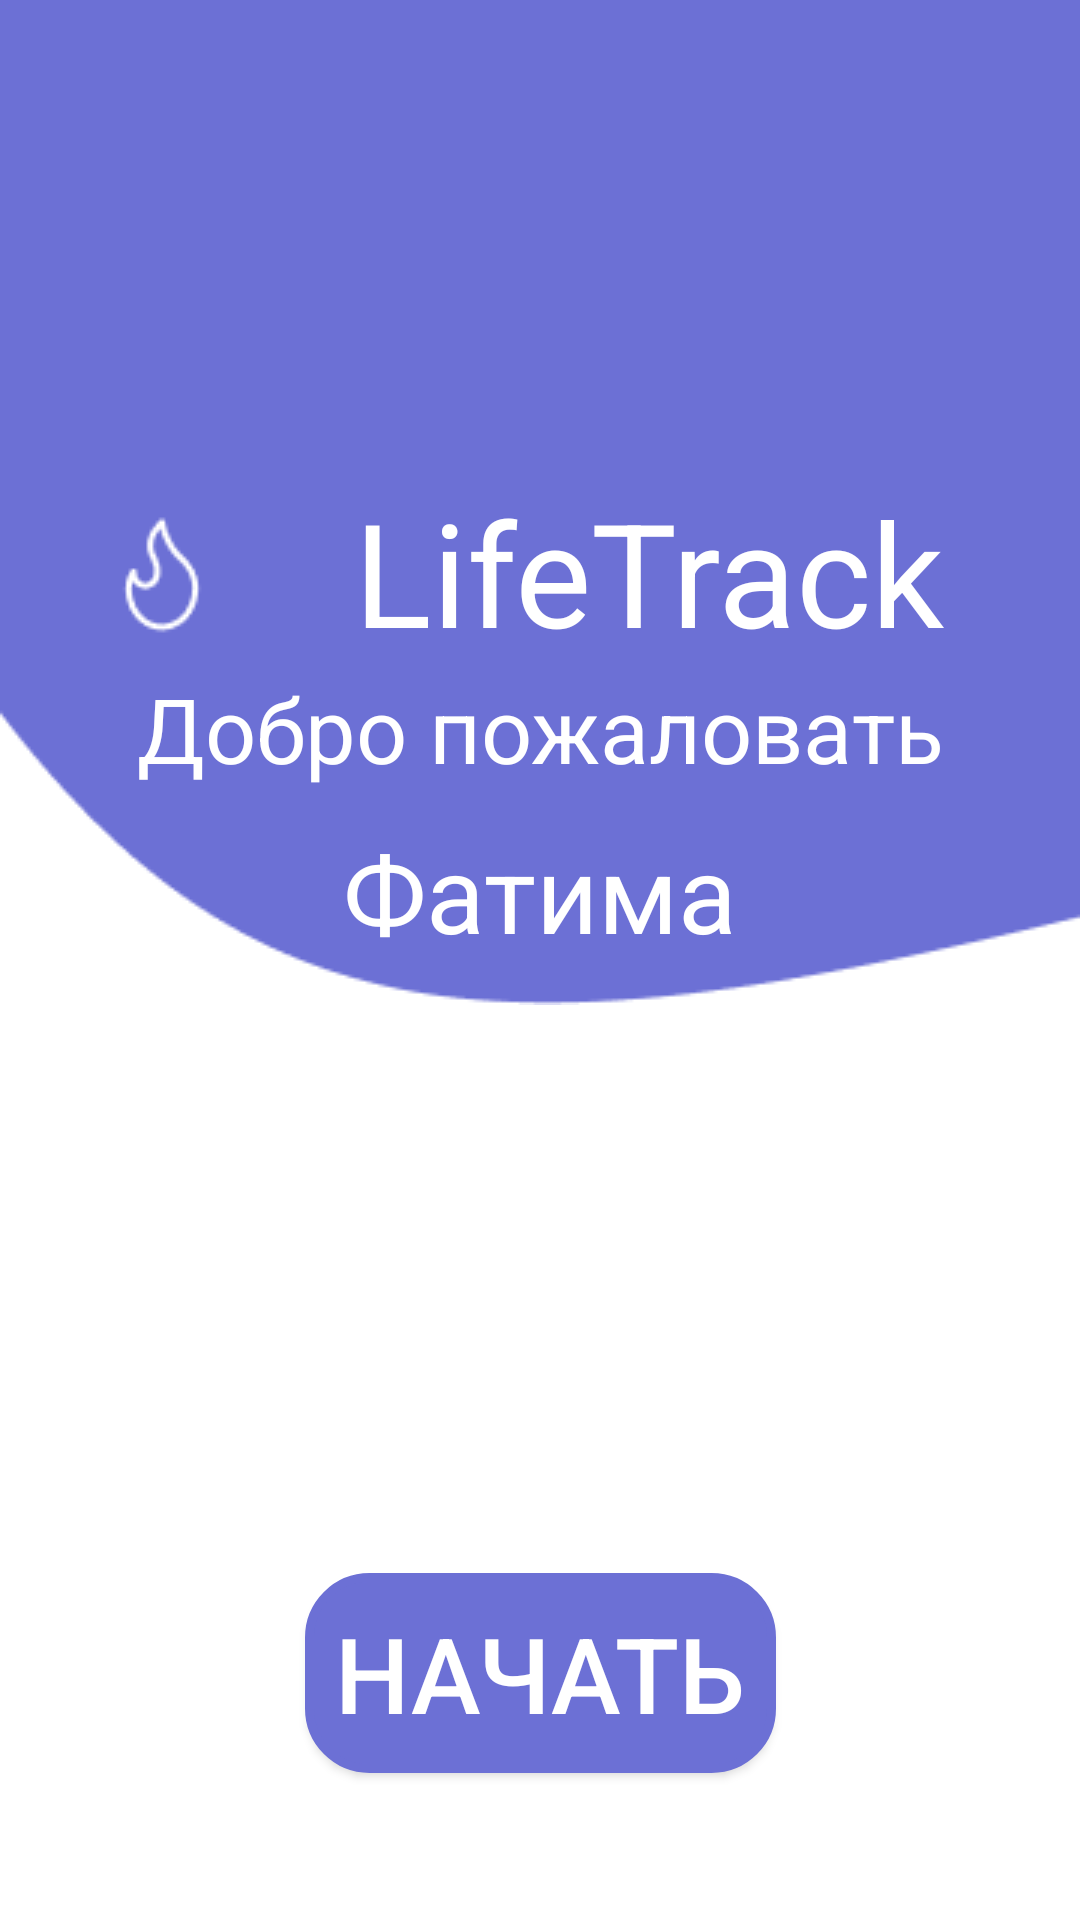

Where icons sit on this 1080 x 1920 app screen, as (x1, y1, x2, y2):
flame: (125, 518, 199, 632)
